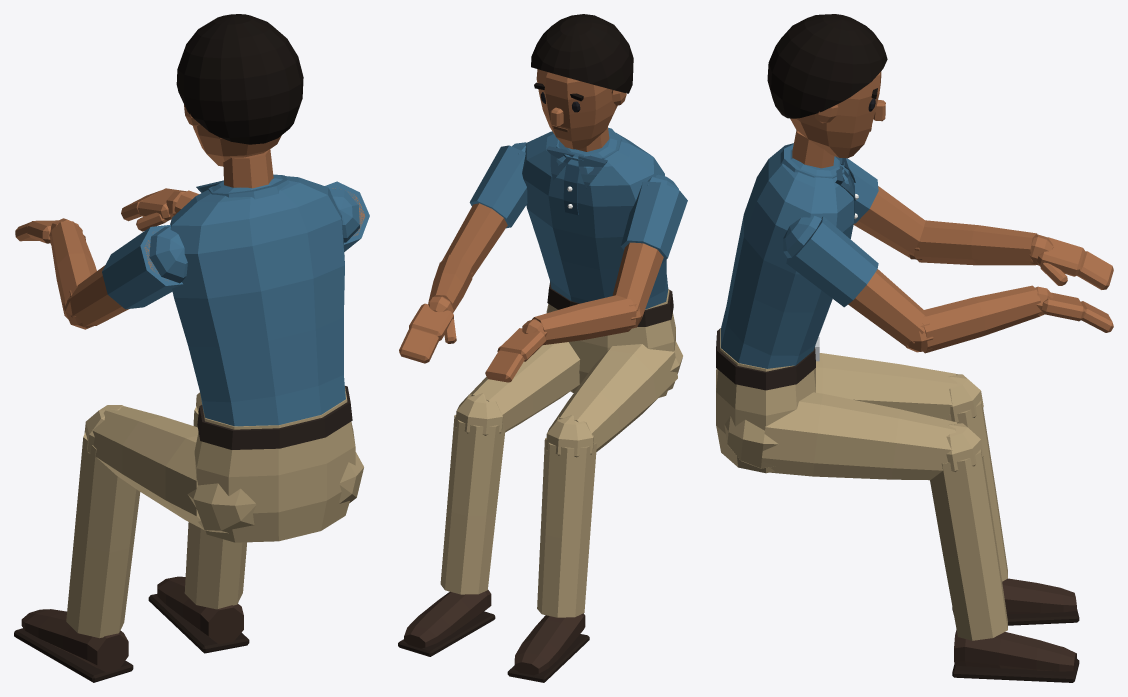
File: person_cafe_laptop.glb
3 views of the same model, side by side, from view 1: azimuth 30°, elevation 25°; view 2: azimuth 150°, elevation 25°; view 3: azimuth 270°, elevation 25° (orthographic). The views are drawn at different scales.
Visible parts, largest first — view 1: Chest, Hips, Head, Shin_L, Thigh_L, UpperArm_L, Foot_L, Shin_R, Foot_R, Forearm_L, Hand_R, UpperArm_R (+3 smaller); view 2: Chest, Head, Shin_L, Shin_R, Thigh_L, UpperArm_L, UpperArm_R, Thigh_R, Foot_R, Hips, Forearm_L, Foot_L (+3 smaller); view 3: Chest, Thigh_R, Head, Shin_R, UpperArm_R, Hips, Thigh_L, Foot_R, Forearm_R, Forearm_L, UpperArm_L, Foot_L (+4 smaller).
Boxes of the visible parts, left/top/right/bottom form: Chest: left=170, top=174, right=345, bottom=426; Hips: left=194, top=385, right=355, bottom=542; Head: left=176, top=14, right=303, bottom=166; Shin_L: left=66, top=405, right=140, bottom=638; Thigh_L: left=91, top=406, right=256, bottom=533; UpperArm_L: left=67, top=224, right=187, bottom=327; Foot_L: left=14, top=609, right=133, bottom=682; Shin_R: left=184, top=392, right=246, bottom=609; Foot_R: left=148, top=576, right=249, bottom=653; Forearm_L: left=51, top=221, right=96, bottom=329; Hand_R: left=121, top=188, right=186, bottom=231; UpperArm_R: left=325, top=181, right=369, bottom=251; Chest: left=522, top=127, right=668, bottom=309; Head: left=531, top=14, right=633, bottom=149; Shin_L: left=537, top=415, right=596, bottom=617; Shin_R: left=440, top=393, right=505, bottom=594; Thigh_L: left=551, top=341, right=682, bottom=451; UpperArm_L: left=612, top=174, right=687, bottom=316; UpperArm_R: left=442, top=142, right=527, bottom=277; Thigh_R: left=461, top=342, right=580, bottom=432; Foot_R: left=398, top=590, right=495, bottom=656; Hips: left=546, top=282, right=675, bottom=397; Forearm_L: left=532, top=295, right=643, bottom=344; Foot_L: left=507, top=613, right=589, bottom=682; Chest: left=720, top=143, right=858, bottom=368; Thigh_R: left=724, top=392, right=957, bottom=480; Head: left=767, top=14, right=887, bottom=158; Shin_R: left=930, top=423, right=1007, bottom=640; UpperArm_R: left=783, top=215, right=925, bottom=347; Hips: left=716, top=328, right=819, bottom=473; Thigh_L: left=815, top=353, right=957, bottom=419; Foot_R: left=952, top=629, right=1079, bottom=682; Forearm_R: left=906, top=285, right=1041, bottom=353; Forearm_L: left=908, top=220, right=1037, bottom=265; UpperArm_L: left=846, top=158, right=925, bottom=257; Foot_L: left=952, top=578, right=1079, bottom=625.
Bounding box in the file's own units: 0.5035 × 1.35 × 0.7802.
